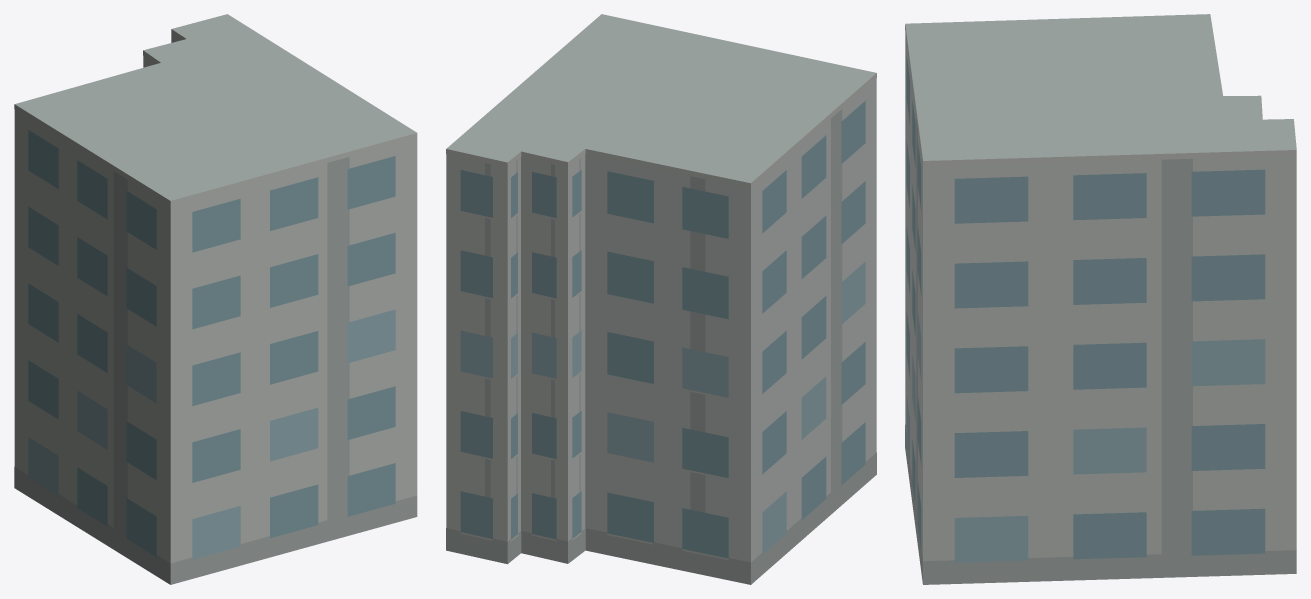
File: survey-upis-32804734.glb
3 views of the same model, side by side, from view 1: azimuth 30°, elevation 25°; view 2: azimuth 150°, elevation 25°; view 3: azimuth 270°, elevation 25° (orthographic). The views are drawn at different scales.
Parts seen in each view (by area): view 1: survey-upis-32804734.tmp; view 2: survey-upis-32804734.tmp; view 3: survey-upis-32804734.tmp.
Boxes of the visible parts, x1,y1,x2,y2 form: survey-upis-32804734.tmp: (14,14,417,584); survey-upis-32804734.tmp: (446,14,876,584); survey-upis-32804734.tmp: (905,14,1296,584).
Bounding box in the file's own units: 13.32 × 17.9 × 14.99.
